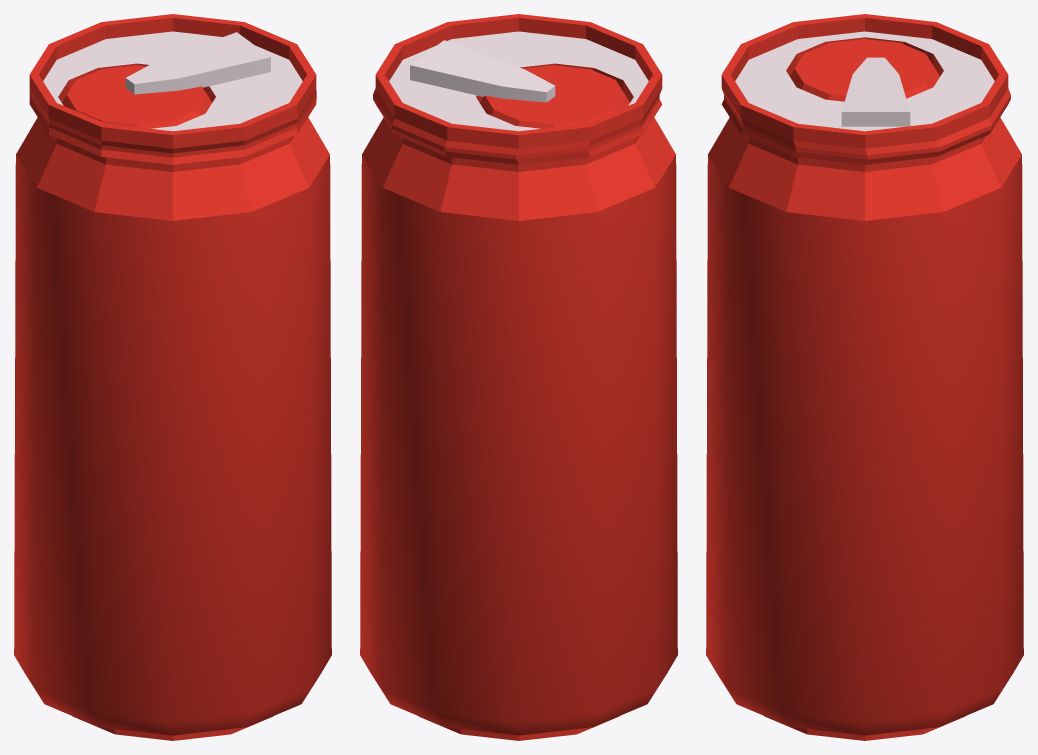
Rendered from SM_cola_02.fbx.
3 renders of one model, left to right at view 1: azimuth 30°, elevation 25°; view 2: azimuth 150°, elevation 25°; view 3: azimuth 270°, elevation 25°, orthographic.
Visible parts, largest first — view 1: cola_02; view 2: cola_02; view 3: cola_02.
Part boxes in pixels (x1,y1,x2,y2): cola_02: [14, 14, 331, 740]; cola_02: [360, 14, 677, 740]; cola_02: [706, 14, 1023, 740].
Size of the model in its own units: 16.12 by 34.84 by 16.12.
